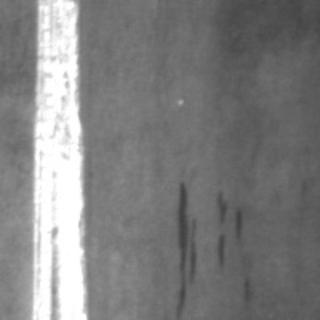inclusion: (170, 178, 202, 318), (211, 184, 243, 276)
scratches: (26, 0, 86, 316)
